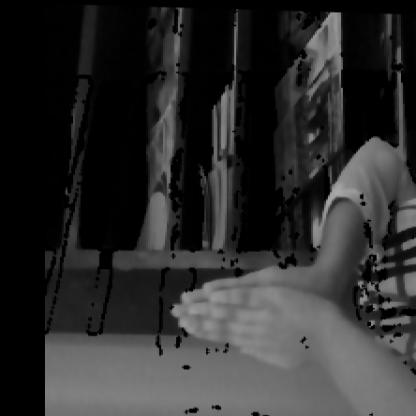namaste: (157, 220, 388, 399)
